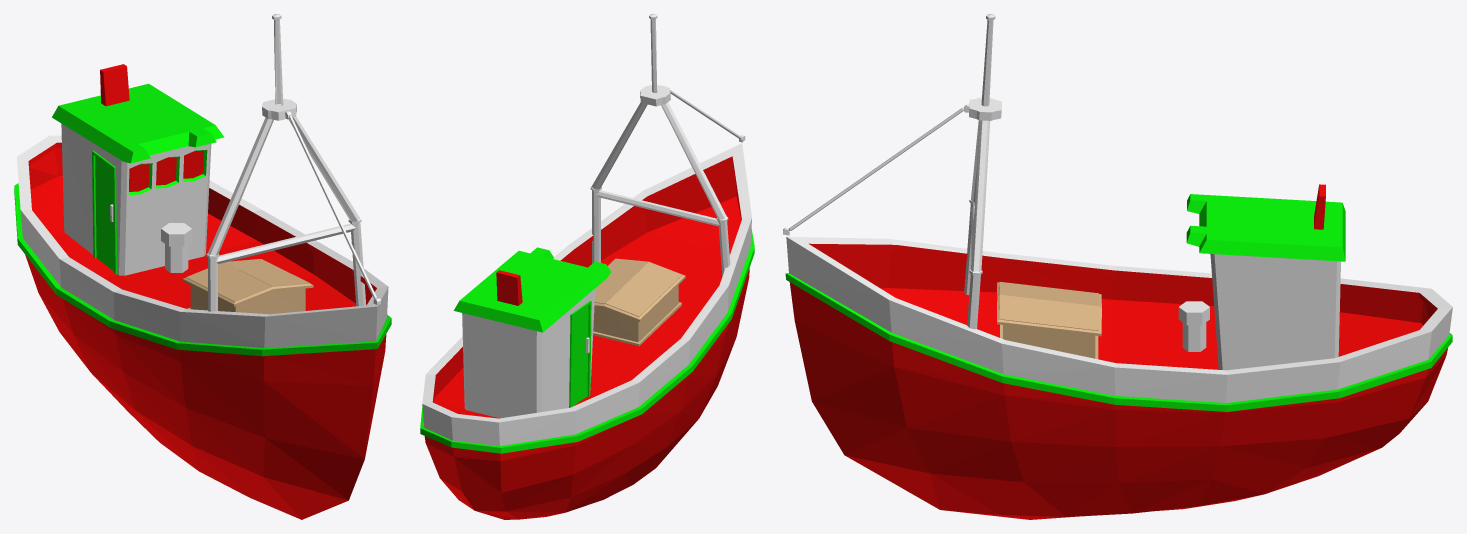
File: boatred.fbx
The picture shows the model from 3 angles, left to right: view 1: azimuth 30°, elevation 25°; view 2: azimuth 150°, elevation 25°; view 3: azimuth 270°, elevation 25°; orthographic projection. The views are drawn at different scales.
Parts seen in each view (by area): view 1: skp1284_1; view 2: skp1284_1; view 3: skp1284_1.
Part boxes in pixels (x1,y1,x2,y2): skp1284_1: [14, 14, 391, 519]; skp1284_1: [420, 14, 754, 519]; skp1284_1: [783, 14, 1452, 519].
Bounding box in the file's own units: 4.47 × 10.03 × 12.06.
